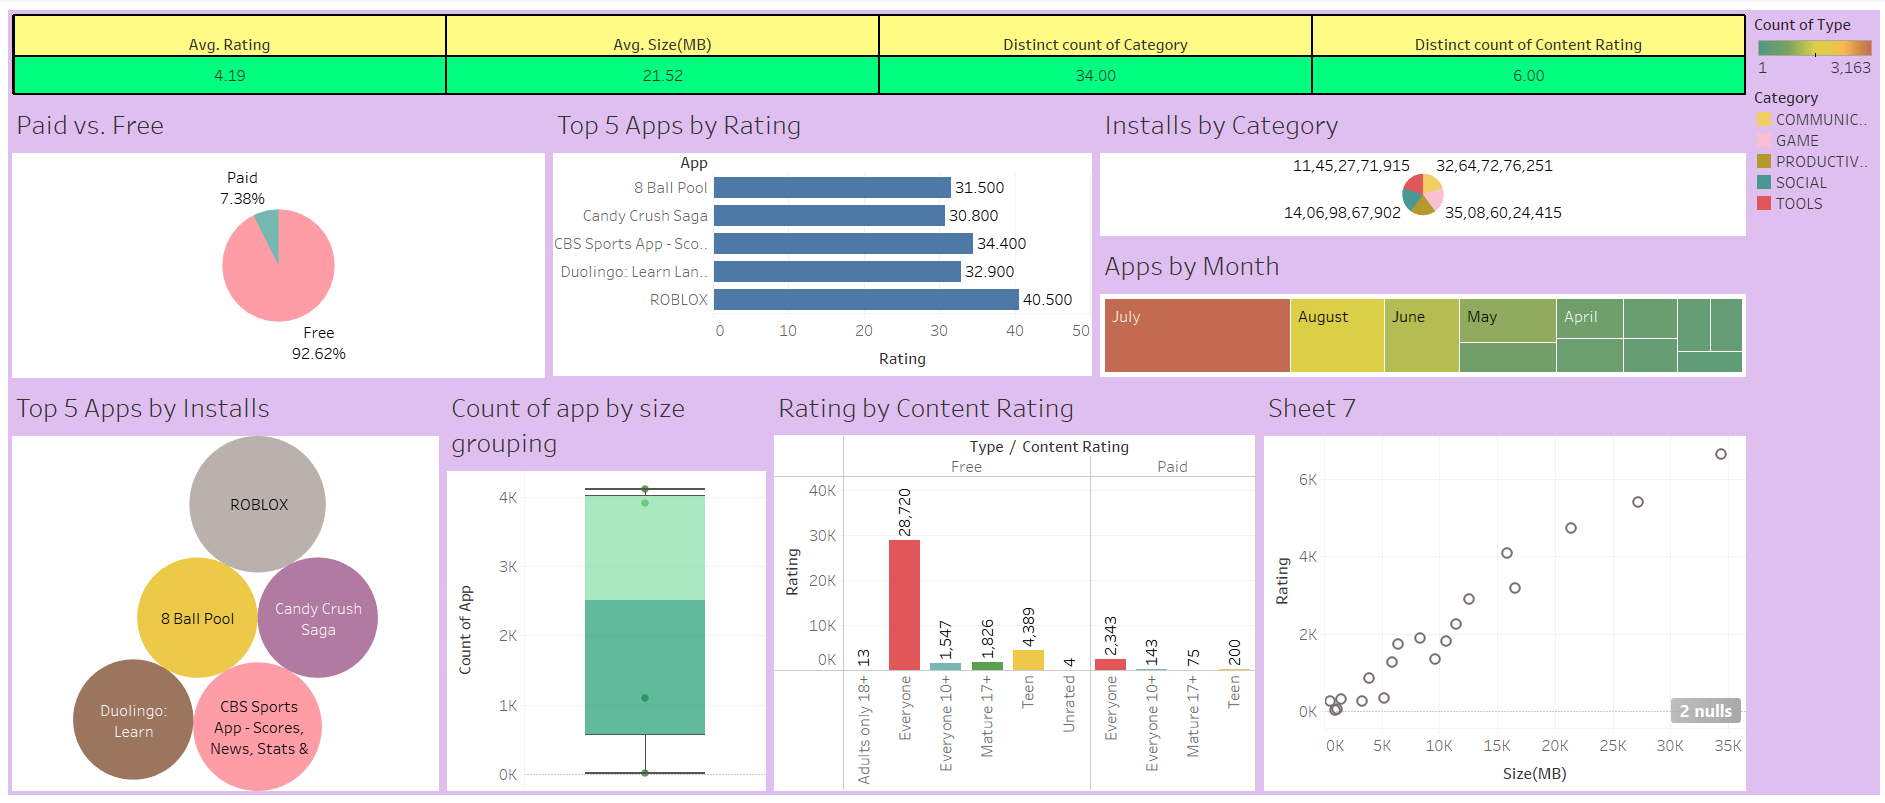

The dashboard page shown, as its layout file describes it:
{"tool":"tableau","page":{"name":"Dashboard 1","canvas":[1000,1000],"units":"permille","ordinal":0},"visuals":[{"type":"worksheet","title":"Card","mark":"Automatic","box":[4.8,10,911.9,111.1]},{"type":"legend","title":"Apps by Month","param":"[federated.1j5i3tc0wdg9cw12mv8v81rnb1j2].[cnt:Type:qk]","box":[916.7,10,78.5,91.1]},{"type":"legend","title":"Installs by Category","param":"[federated.1j5i3tc0wdg9cw12mv8v81rnb1j2].[none:Category:nk]","box":[916.7,101.1,78.5,168.5]},{"type":"worksheet","title":"Paid vs. Free","mark":"Pie","box":[4.8,121.1,283.4,353.3]},{"type":"worksheet","title":"Top 5 Apps by Rating","mark":"Automatic","rows":["App"],"cols":["Rating"],"box":[288.3,121.1,286.3,353.3]},{"type":"worksheet","title":"Installs by Category","mark":"Pie","box":[574.6,121.1,342.1,176.7]},{"type":"legend","title":"Installs by Category","param":"[federated.1j5i3tc0wdg9cw12mv8v81rnb1j2].[sum:Calculation_1363464789097959424:qk","box":[916.7,269.7,78.5,30]},{"type":"worksheet","title":"Apps by Month","mark":"Automatic","box":[574.6,297.7,342.1,176.7]},{"type":"worksheet","title":"Top 5 Apps by Installs","mark":"Circle","box":[4.8,474.4,227.8,515.6]},{"type":"worksheet","title":"Count of app by size grouping","mark":"Circle","rows":["App"],"box":[232.6,474.4,171,515.6]},{"type":"worksheet","title":"Rating by Content Rating","mark":"Automatic","rows":["Rating"],"cols":["Type","Content Rating"],"box":[403.6,474.4,256.5,515.6]},{"type":"worksheet","title":"Sheet 7","mark":"Automatic","rows":["Rating"],"cols":["Size(MB)"],"box":[660.1,474.4,256.6,515.6]}]}

Visuals, with their boxes on the dashboard's canvas, which has no fixed pixel size, in thousandths of its width and height (x1, y1, x2, y2). These are canvas units, not pixel positions in the 1885x803 screenshot, which may show the page scaled, cropped or inside an application window:
"Card" worksheet: (x1=5, y1=10, x2=917, y2=121)
"Apps by Month" legend: (x1=917, y1=10, x2=995, y2=101)
"Installs by Category" legend: (x1=917, y1=101, x2=995, y2=270)
"Paid vs. Free" worksheet (Pie marks): (x1=5, y1=121, x2=288, y2=474)
"Top 5 Apps by Rating" worksheet: (x1=288, y1=121, x2=575, y2=474)
"Installs by Category" worksheet (Pie marks): (x1=575, y1=121, x2=917, y2=298)
"Installs by Category" legend: (x1=917, y1=270, x2=995, y2=300)
"Apps by Month" worksheet: (x1=575, y1=298, x2=917, y2=474)
"Top 5 Apps by Installs" worksheet (Circle marks): (x1=5, y1=474, x2=233, y2=990)
"Count of app by size grouping" worksheet (Circle marks): (x1=233, y1=474, x2=404, y2=990)
"Rating by Content Rating" worksheet: (x1=404, y1=474, x2=660, y2=990)
"Sheet 7" worksheet: (x1=660, y1=474, x2=917, y2=990)
